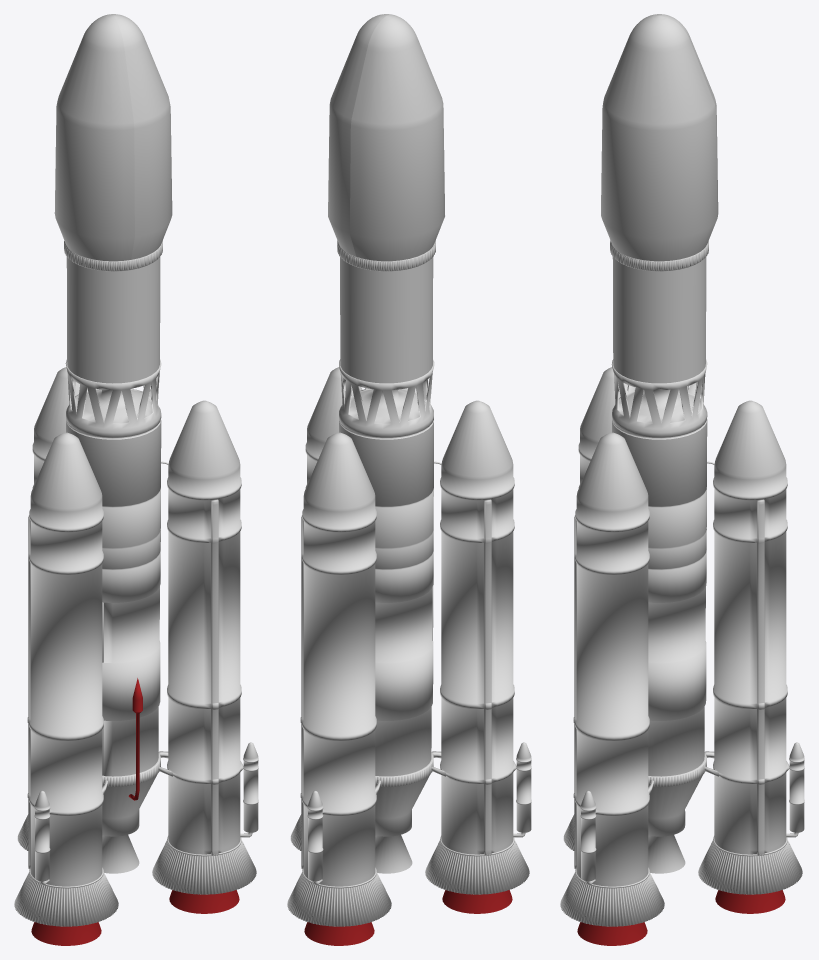
File: rocket3.glb
The picture shows the model from 3 angles, left to right: view 1: azimuth 30°, elevation 25°; view 2: azimuth 150°, elevation 25°; view 3: azimuth 270°, elevation 25°; orthographic projection.
Parts seen in each view (by area): view 1: ISRO GSLV MK III Rocket Launch Vehicle, ISRO GSLV MK III Rocket Launch Vehicle.012, ISRO GSLV MK III Rocket Launch Vehicle.006, ISRO GSLV MK III Rocket Launch Vehicle.018, ISRO GSLV MK III Rocket Launch Vehicle.027, ISRO GSLV MK III Rocket Launch Vehicle.030, ISRO GSLV MK III Rocket Launch Vehicle.028, ISRO GSLV MK III Rocket Launch Vehicle.021, ISRO GSLV MK III Rocket Launch Vehicle.022, ISRO GSLV MK III Rocket Launch Vehicle.016, ISRO GSLV MK III Rocket Launch Vehicle.013, ISRO GSLV MK III Rocket Launch Vehicle.023 (+6 smaller); view 2: ISRO GSLV MK III Rocket Launch Vehicle.012, ISRO GSLV MK III Rocket Launch Vehicle.013, ISRO GSLV MK III Rocket Launch Vehicle.006, ISRO GSLV MK III Rocket Launch Vehicle.018, ISRO GSLV MK III Rocket Launch Vehicle.027, ISRO GSLV MK III Rocket Launch Vehicle.028, ISRO GSLV MK III Rocket Launch Vehicle.030, ISRO GSLV MK III Rocket Launch Vehicle.022, ISRO GSLV MK III Rocket Launch Vehicle.020, ISRO GSLV MK III Rocket Launch Vehicle.016, ISRO GSLV MK III Rocket Launch Vehicle, ISRO GSLV MK III Rocket Launch Vehicle.024 (+5 smaller); view 3: ISRO GSLV MK III Rocket Launch Vehicle.013, ISRO GSLV MK III Rocket Launch Vehicle, ISRO GSLV MK III Rocket Launch Vehicle.030, ISRO GSLV MK III Rocket Launch Vehicle.006, ISRO GSLV MK III Rocket Launch Vehicle.027, ISRO GSLV MK III Rocket Launch Vehicle.028, ISRO GSLV MK III Rocket Launch Vehicle.020, ISRO GSLV MK III Rocket Launch Vehicle.021, ISRO GSLV MK III Rocket Launch Vehicle.016, ISRO GSLV MK III Rocket Launch Vehicle.012, ISRO GSLV MK III Rocket Launch Vehicle.025, ISRO GSLV MK III Rocket Launch Vehicle.023 (+4 smaller).
Part boxes in pixels (<box>): ISRO GSLV MK III Rocket Launch Vehicle: <box>167,400,243,854</box>; ISRO GSLV MK III Rocket Launch Vehicle.012: <box>27,432,103,886</box>; ISRO GSLV MK III Rocket Launch Vehicle.006: <box>66,420,161,776</box>; ISRO GSLV MK III Rocket Launch Vehicle.018: <box>54,14,134,261</box>; ISRO GSLV MK III Rocket Launch Vehicle.027: <box>66,256,160,383</box>; ISRO GSLV MK III Rocket Launch Vehicle.030: <box>111,14,172,259</box>; ISRO GSLV MK III Rocket Launch Vehicle.028: <box>65,359,161,439</box>; ISRO GSLV MK III Rocket Launch Vehicle.021: <box>152,836,256,894</box>; ISRO GSLV MK III Rocket Launch Vehicle.022: <box>14,867,118,926</box>; ISRO GSLV MK III Rocket Launch Vehicle.016: <box>102,775,156,873</box>; ISRO GSLV MK III Rocket Launch Vehicle.013: <box>32,367,79,488</box>; ISRO GSLV MK III Rocket Launch Vehicle.023: <box>240,742,258,837</box>; ISRO GSLV MK III Rocket Launch Vehicle.012: <box>440,400,516,854</box>; ISRO GSLV MK III Rocket Launch Vehicle.013: <box>300,432,376,886</box>; ISRO GSLV MK III Rocket Launch Vehicle.006: <box>339,421,433,776</box>; ISRO GSLV MK III Rocket Launch Vehicle.018: <box>350,14,444,261</box>; ISRO GSLV MK III Rocket Launch Vehicle.027: <box>340,257,433,383</box>; ISRO GSLV MK III Rocket Launch Vehicle.028: <box>339,359,434,439</box>; ISRO GSLV MK III Rocket Launch Vehicle.030: <box>328,14,394,256</box>; ISRO GSLV MK III Rocket Launch Vehicle.022: <box>425,836,529,894</box>; ISRO GSLV MK III Rocket Launch Vehicle.020: <box>287,867,391,926</box>; ISRO GSLV MK III Rocket Launch Vehicle.016: <box>375,774,430,873</box>; ISRO GSLV MK III Rocket Launch Vehicle: <box>305,367,362,488</box>; ISRO GSLV MK III Rocket Launch Vehicle.024: <box>513,742,531,837</box>; ISRO GSLV MK III Rocket Launch Vehicle.013: <box>713,400,789,854</box>; ISRO GSLV MK III Rocket Launch Vehicle: <box>573,432,649,886</box>; ISRO GSLV MK III Rocket Launch Vehicle.030: <box>601,16,717,261</box>; ISRO GSLV MK III Rocket Launch Vehicle.006: <box>612,419,707,776</box>; ISRO GSLV MK III Rocket Launch Vehicle.027: <box>612,257,706,383</box>; ISRO GSLV MK III Rocket Launch Vehicle.028: <box>611,359,707,439</box>; ISRO GSLV MK III Rocket Launch Vehicle.020: <box>698,836,802,894</box>; ISRO GSLV MK III Rocket Launch Vehicle.021: <box>560,867,664,926</box>; ISRO GSLV MK III Rocket Launch Vehicle.016: <box>648,775,702,873</box>; ISRO GSLV MK III Rocket Launch Vehicle.012: <box>578,367,635,488</box>; ISRO GSLV MK III Rocket Launch Vehicle.025: <box>786,742,804,837</box>; ISRO GSLV MK III Rocket Launch Vehicle.023: <box>580,790,596,885</box>.
Size of the model in its own units: 2.95 by 10.97 by 2.76.
